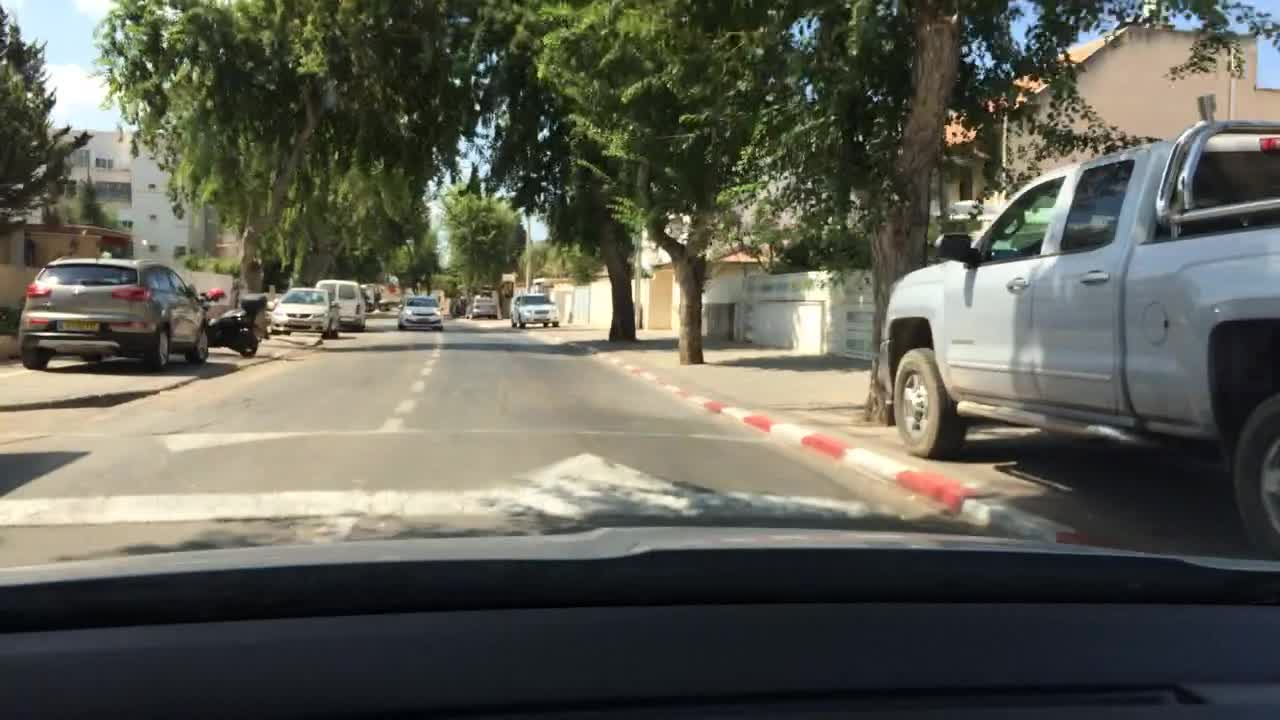car: (870, 115, 1279, 562), (13, 254, 211, 373), (266, 285, 340, 335), (310, 276, 366, 331), (505, 293, 564, 328), (395, 295, 444, 335), (466, 291, 501, 320), (358, 280, 382, 313)
motor: (197, 291, 270, 357)
